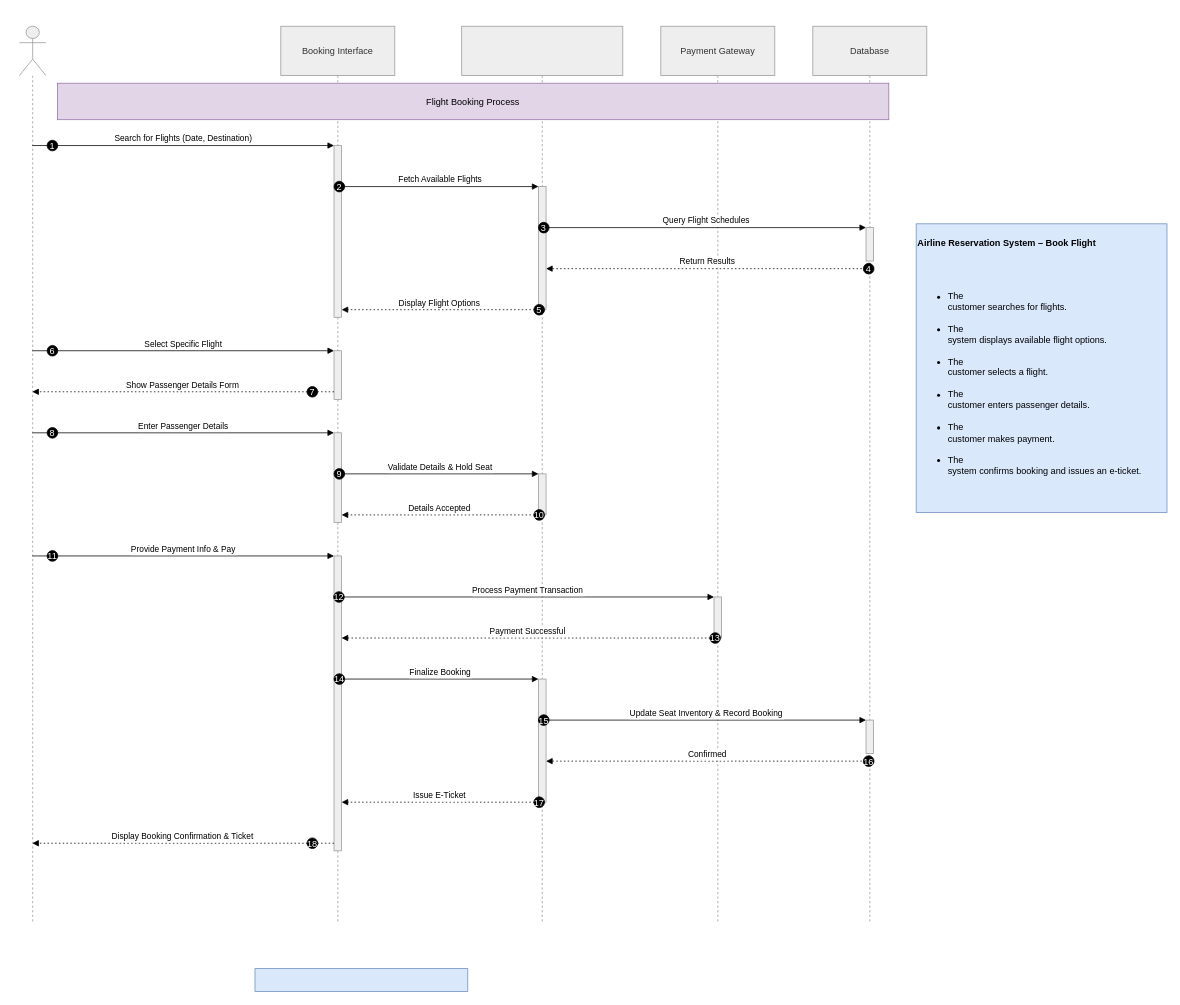
The diagram is 1180 pixels wide and 1005 high, and some of its shapes have lost their labels. The box of each missing label's shape, as (x1, y1, x2, y2) in pixels:
Customer: (19, 25, 46, 923)
Flight Management System: (461, 25, 623, 923)
Sequence diagram: (254, 968, 468, 991)
